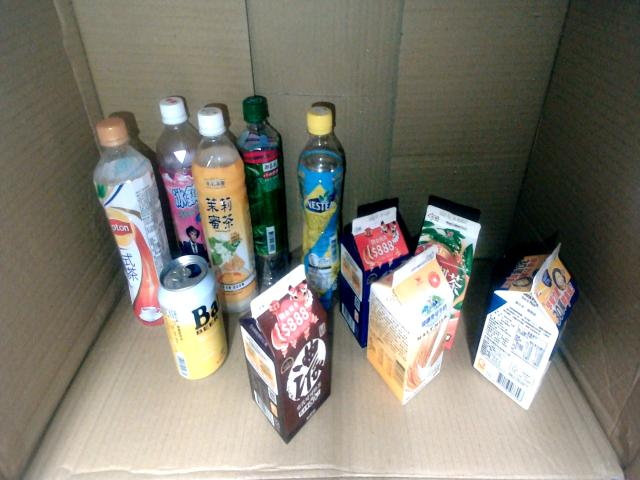Canned_drinks: (157, 254, 230, 380)
bottle: (91, 114, 174, 326), (190, 106, 261, 314), (233, 95, 292, 287), (296, 105, 346, 310), (155, 96, 211, 272)
